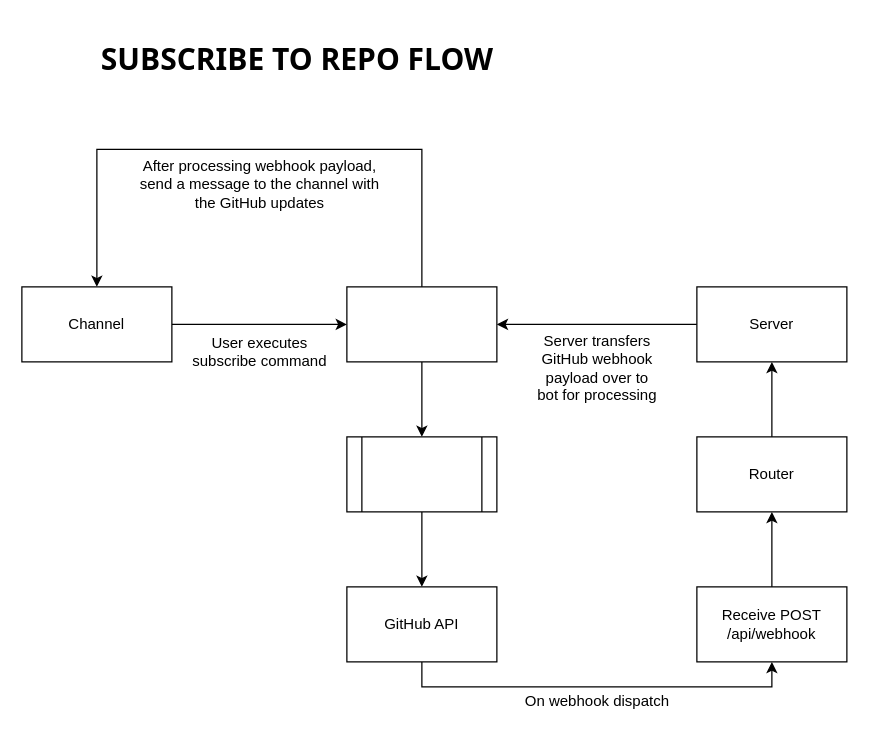
Image size: 869x736. Some labels were removed from this diagram. The centre of each missing label's shape, as x and y in pixels:
"Bot" belongs at pixel 421 324.
"Create webhook to GitHub repo" belongs at pixel 421 474.
